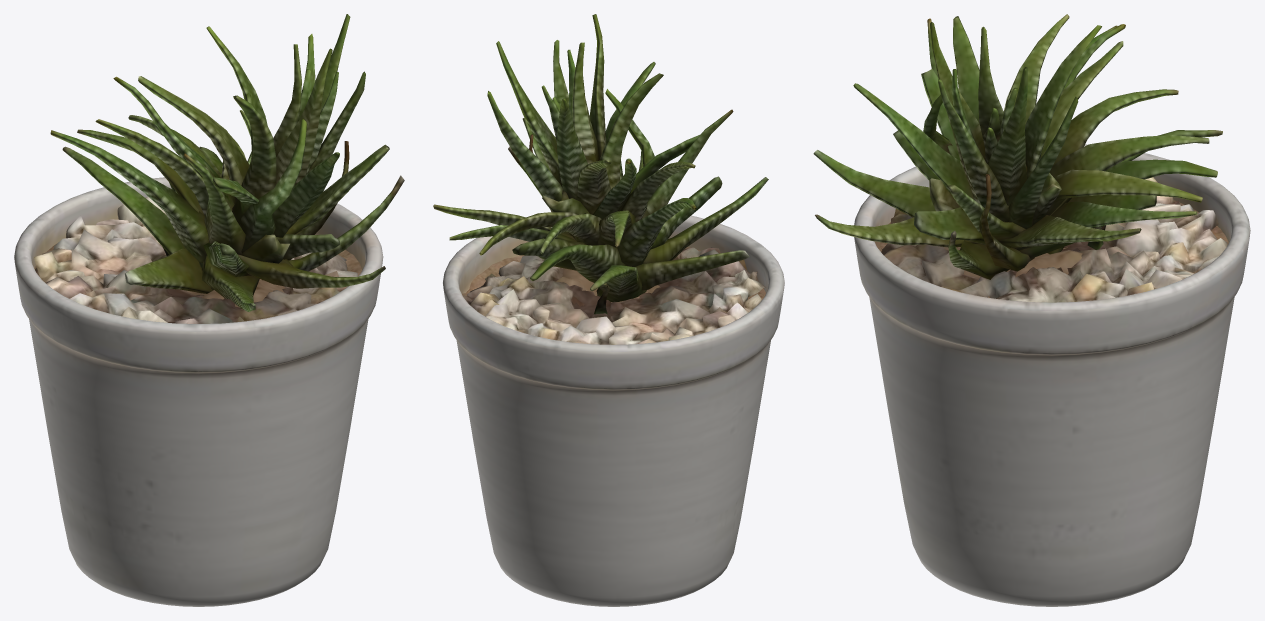
File: plant.glb
3 views of the same model, side by side, from view 1: azimuth 30°, elevation 25°; view 2: azimuth 150°, elevation 25°; view 3: azimuth 270°, elevation 25° (orthographic). The views are drawn at different scales.
Parts seen in each view (by area): view 1: potted_plant_04_pot, potted_plant_04_plant, potted_plant_04_ground, potted_plant_04_dirt; view 2: potted_plant_04_pot, potted_plant_04_plant, potted_plant_04_ground, potted_plant_04_dirt; view 3: potted_plant_04_pot, potted_plant_04_plant, potted_plant_04_ground, potted_plant_04_dirt.
Part boxes in pixels (bbox=[...]): potted_plant_04_pot: bbox=[14, 177, 383, 606]; potted_plant_04_plant: bbox=[50, 14, 404, 311]; potted_plant_04_ground: bbox=[34, 196, 357, 323]; potted_plant_04_dirt: bbox=[34, 238, 362, 307]; potted_plant_04_pot: bbox=[443, 215, 784, 606]; potted_plant_04_plant: bbox=[433, 14, 768, 314]; potted_plant_04_ground: bbox=[463, 247, 765, 344]; potted_plant_04_dirt: bbox=[462, 247, 765, 306]; potted_plant_04_pot: bbox=[854, 144, 1250, 606]; potted_plant_04_plant: bbox=[813, 14, 1222, 279]; potted_plant_04_ground: bbox=[881, 177, 1227, 302]; potted_plant_04_dirt: bbox=[875, 200, 1228, 297].
Bounding box in the file's own units: 0.1679 × 0.2675 × 0.1848.
1 material, 1 textured.
